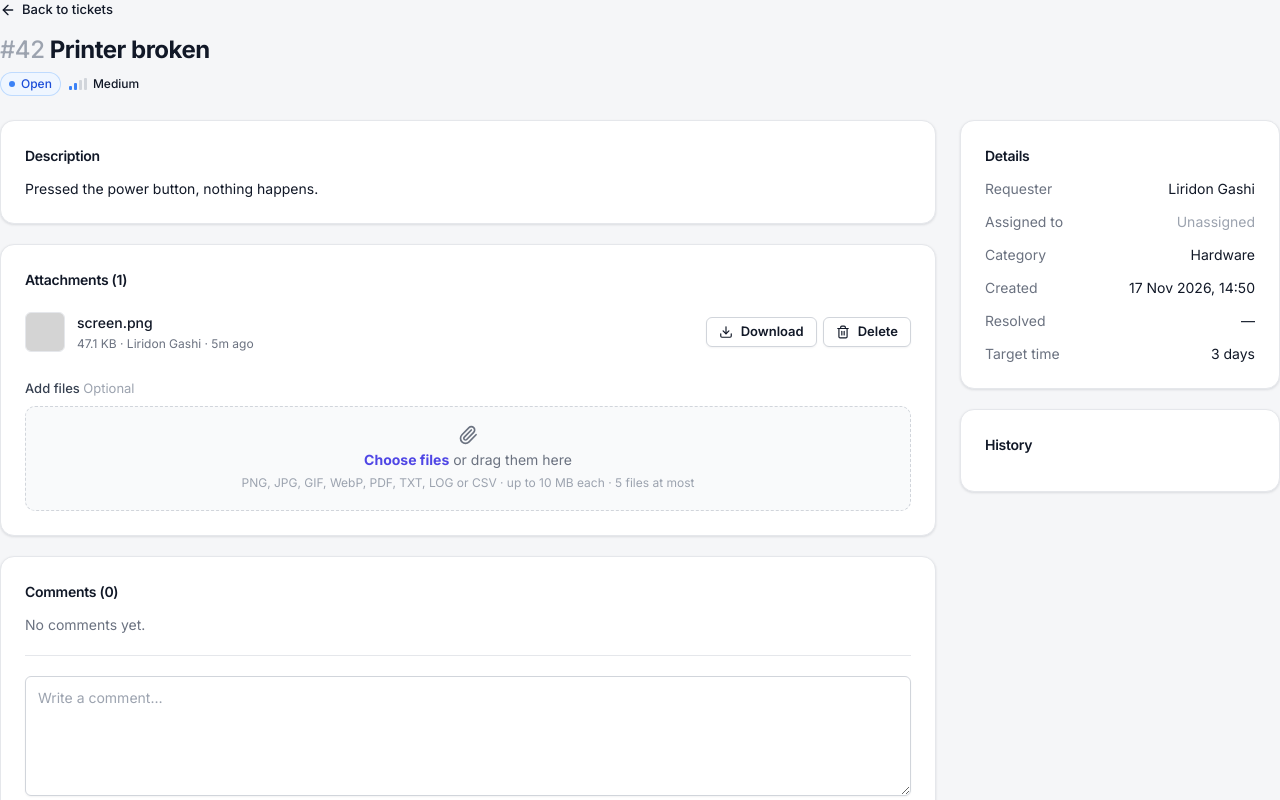
Test: Ticket attachments › a refused delete shows the backend's message in the dialog
Expected: the heading "Attachments (1)" is shown, [25,270,127,288]
Click the button with aria-label "Delete screen.png": (867, 332) [823,317,911,347]
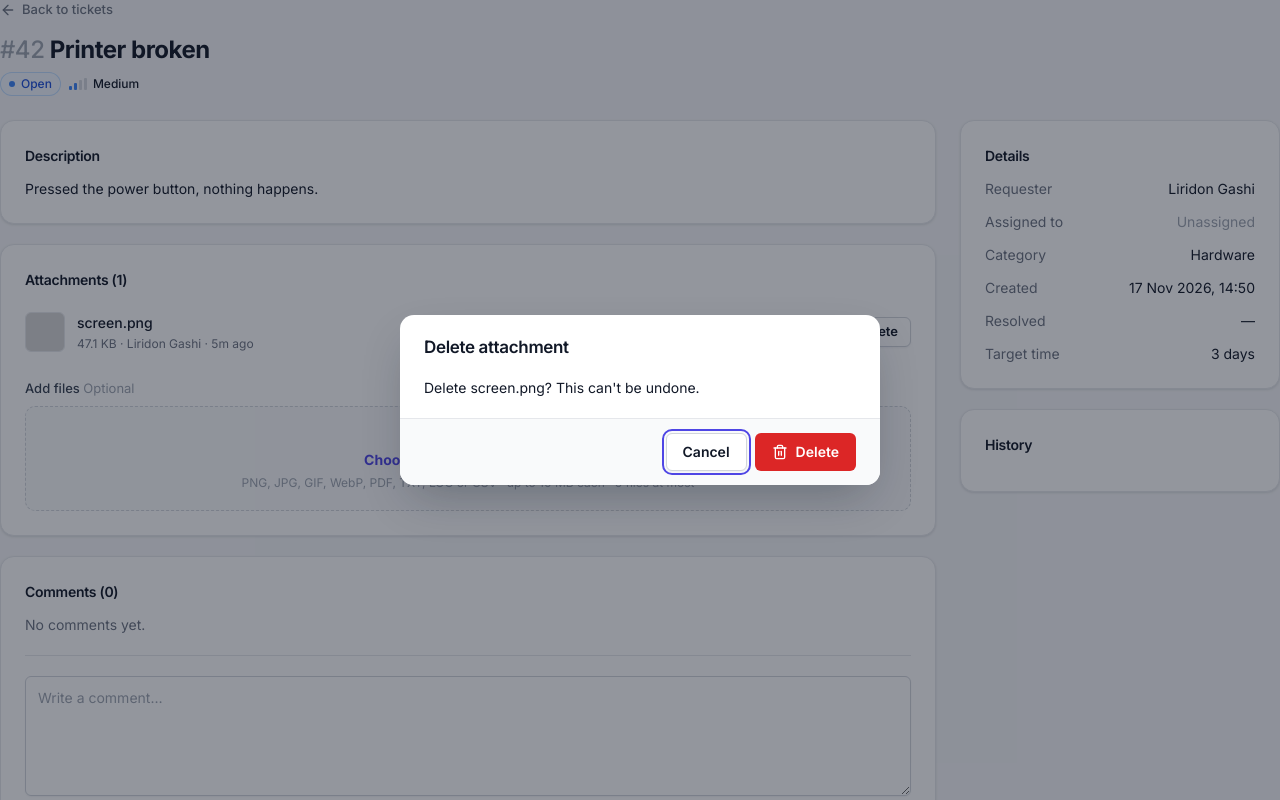
Click the button "Delete": (805, 452) [755,433,856,471]
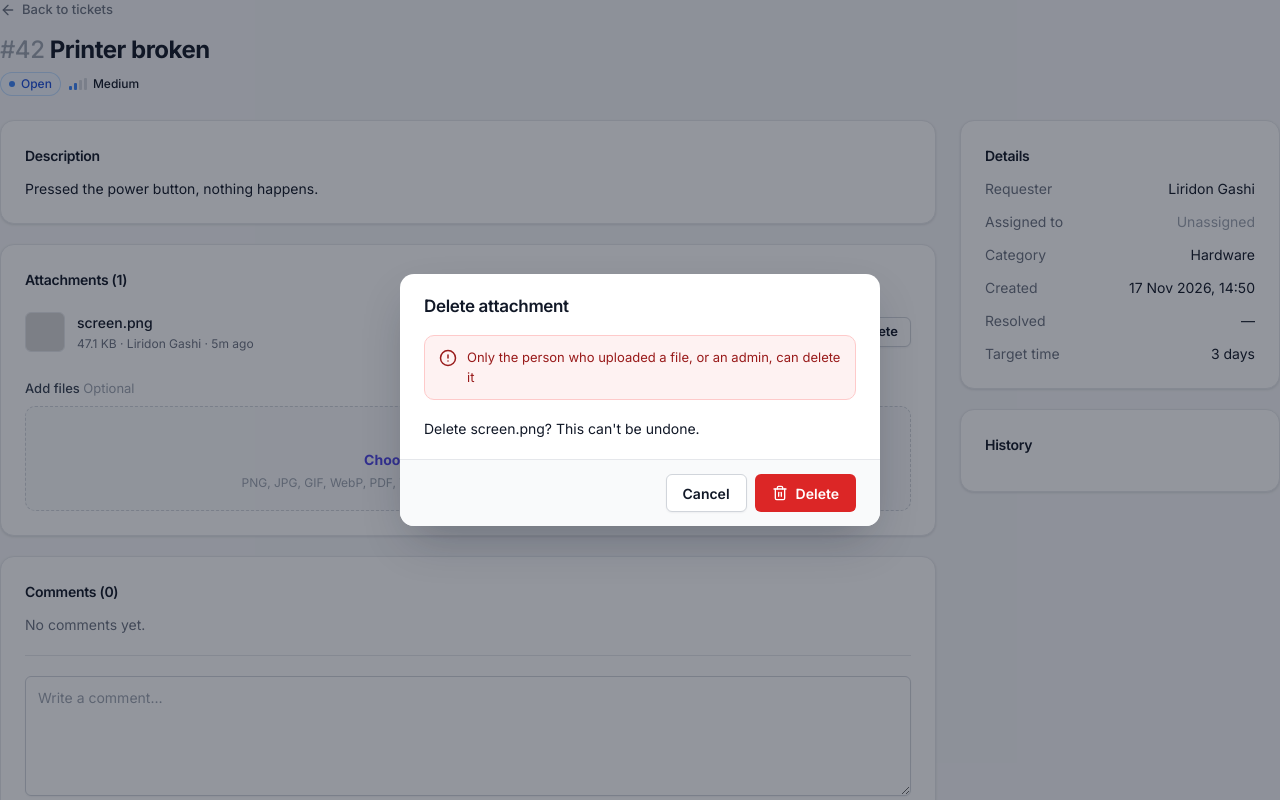
Expected: the message reads "Only the person who uploaded a file, or an admin, can delete it", [467,349,840,385]
